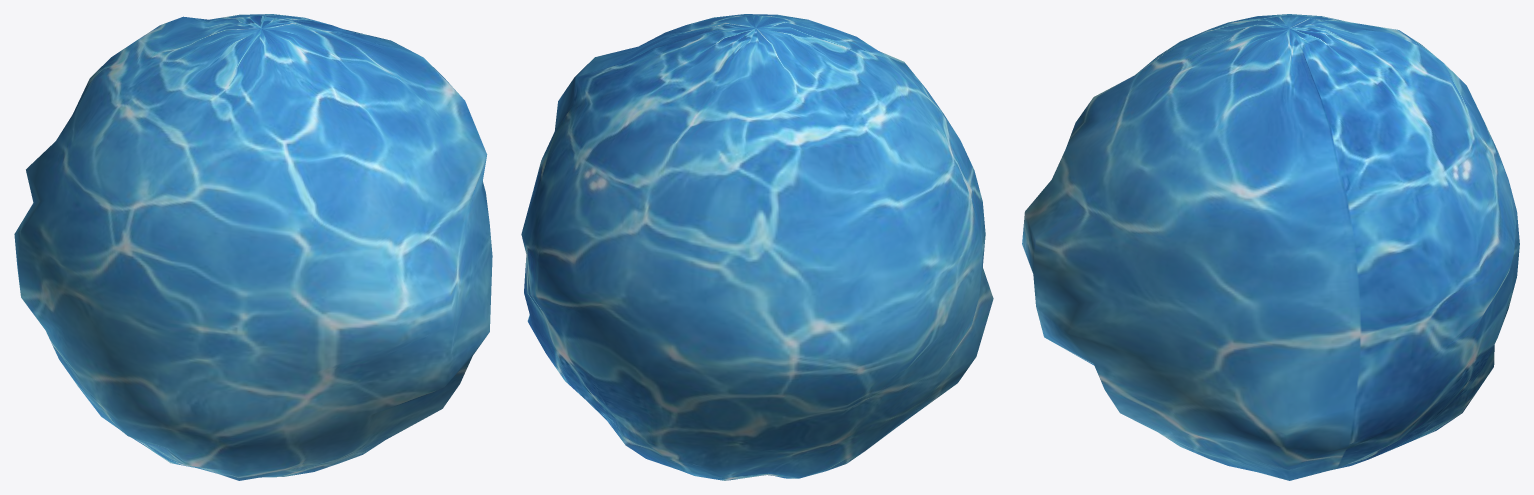
Rendered from polka_dots_2.obj.
The picture shows the model from 3 angles, left to right: view 1: azimuth 30°, elevation 25°; view 2: azimuth 150°, elevation 25°; view 3: azimuth 270°, elevation 25°; orthographic projection.
Bounding box in the file's own units: 4.9 × 4.75 × 5.05.
1 material, 1 textured.
